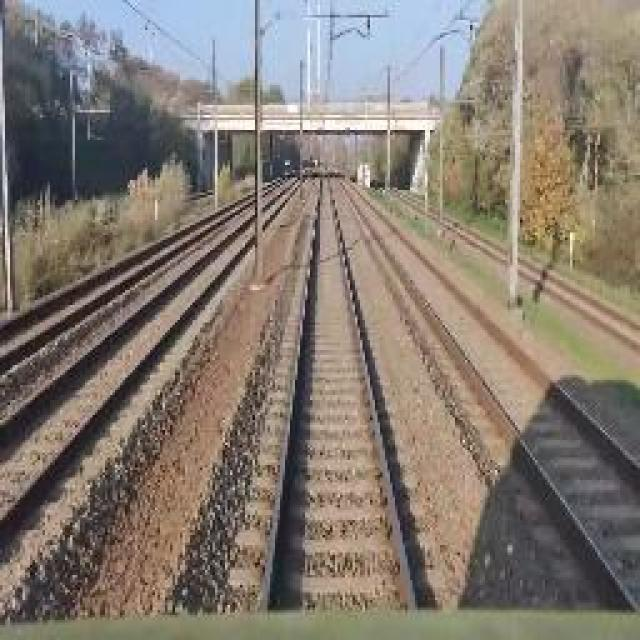rail: (333, 170, 640, 615), (0, 166, 312, 598), (217, 167, 458, 622)
